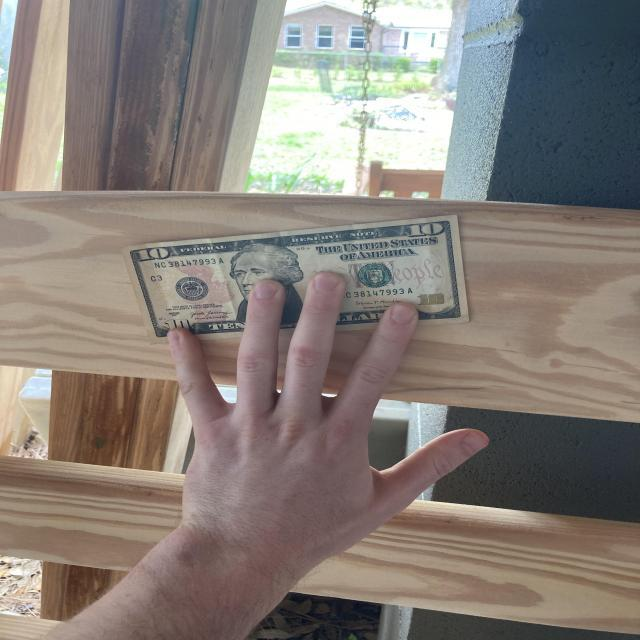ten: (122, 214, 471, 345)
